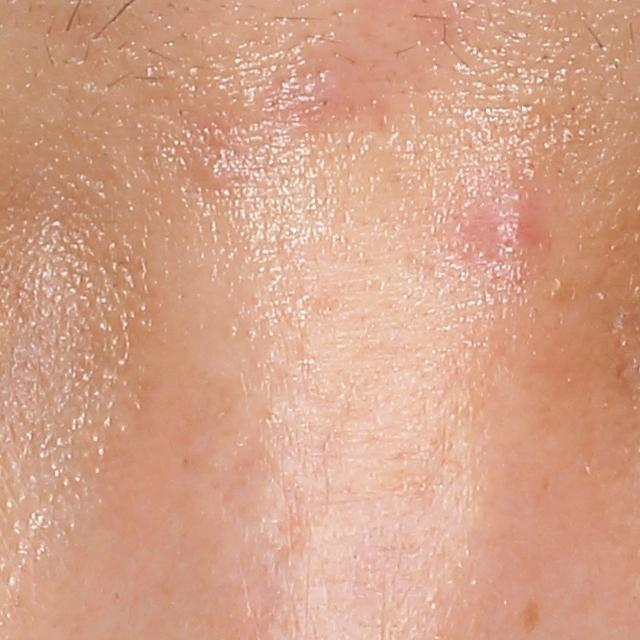melasma: (522, 595, 545, 637)
papule: (459, 188, 548, 257)
